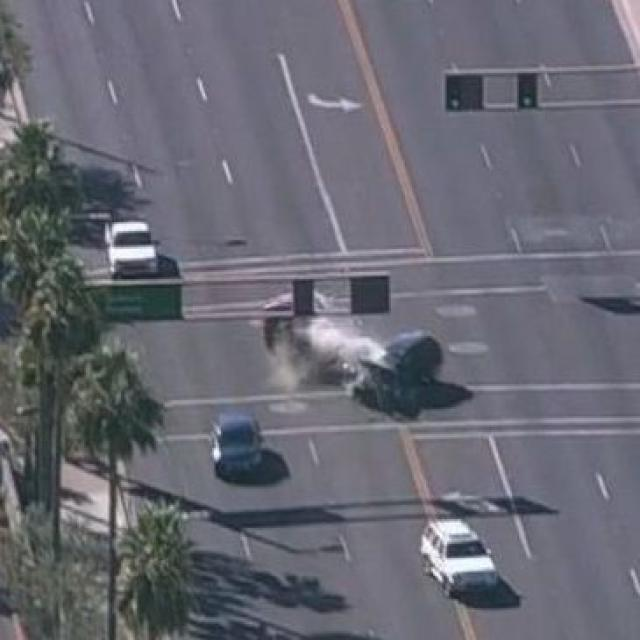traffic_incident: (256, 279, 461, 420)
